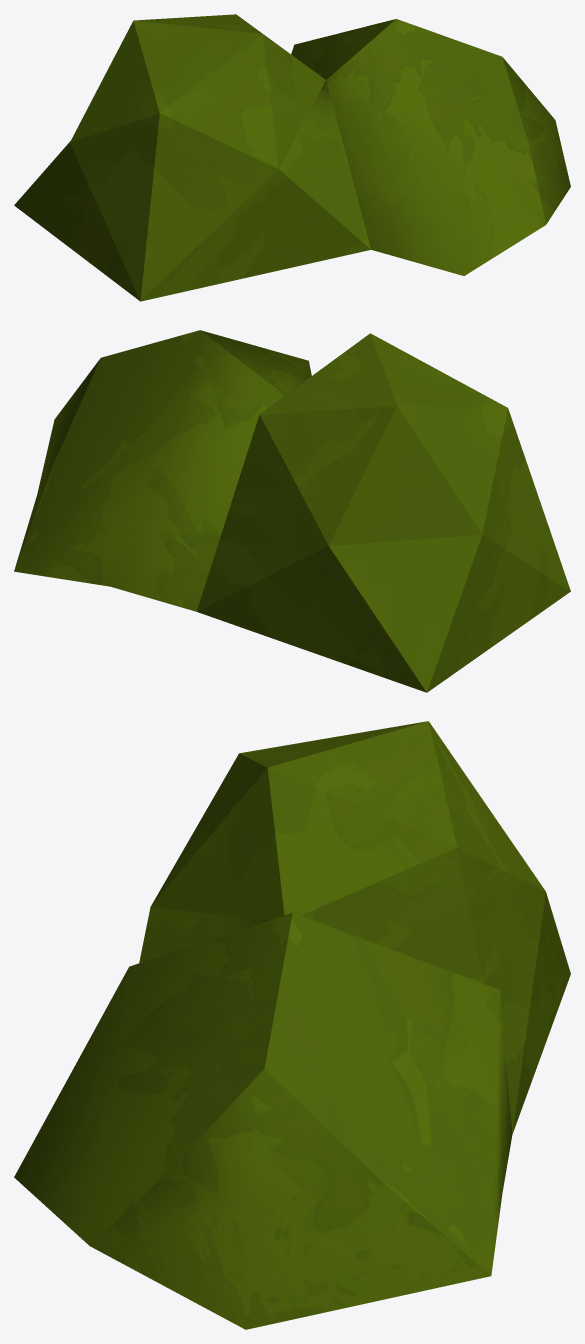
Rendered from buisson2.fbx.
The picture shows the model from 3 angles, top to bottom: view 1: azimuth 30°, elevation 25°; view 2: azimuth 150°, elevation 25°; view 3: azimuth 270°, elevation 25°; orthographic projection. The views are drawn at different scales.
Visible parts, largest first — view 1: buisson2; view 2: buisson2; view 3: buisson2.
Boxes of the visible parts, x1,y1,x2,y2 form: buisson2: [14, 14, 570, 301]; buisson2: [14, 330, 570, 692]; buisson2: [14, 721, 570, 1329].
Size of the model in its own units: 5.37 by 2.52 by 3.76.
